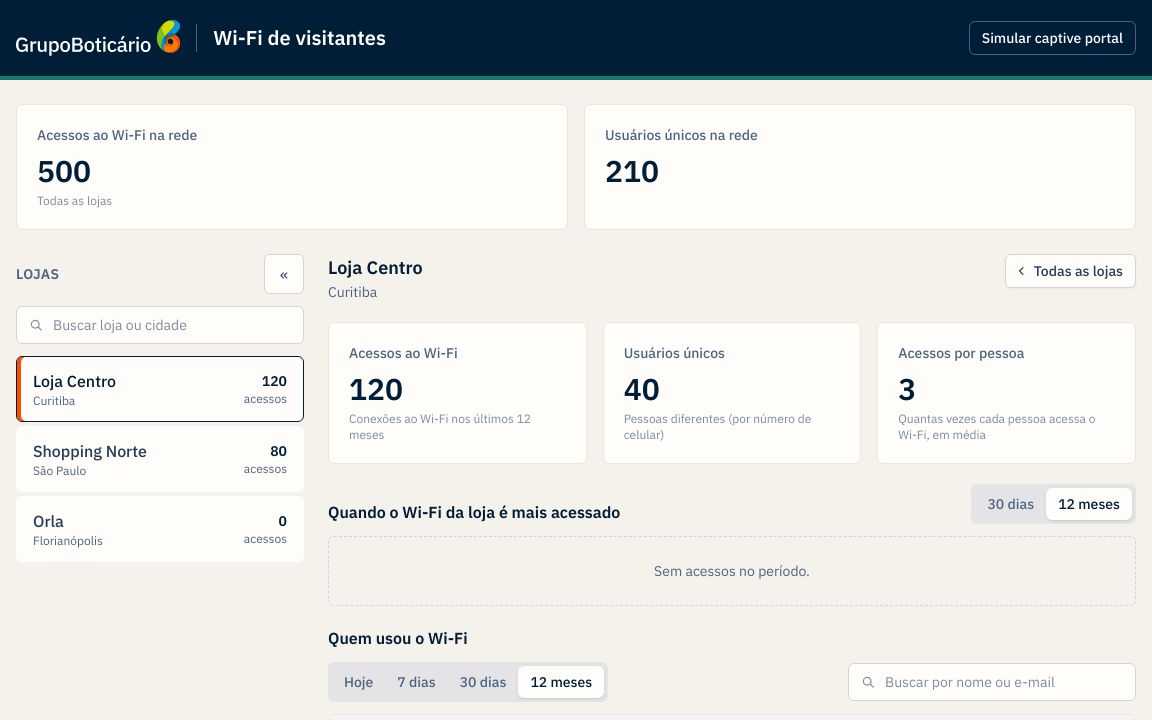
DashboardPage: loja selecionada › avisa quando a busca de visitante não acha ninguém
This screenshot has width=1152, height=720.
Type "zzz" into the search field named "Buscar usuário" at (992, 682), box [848, 663, 1136, 701]
(page scrolled)
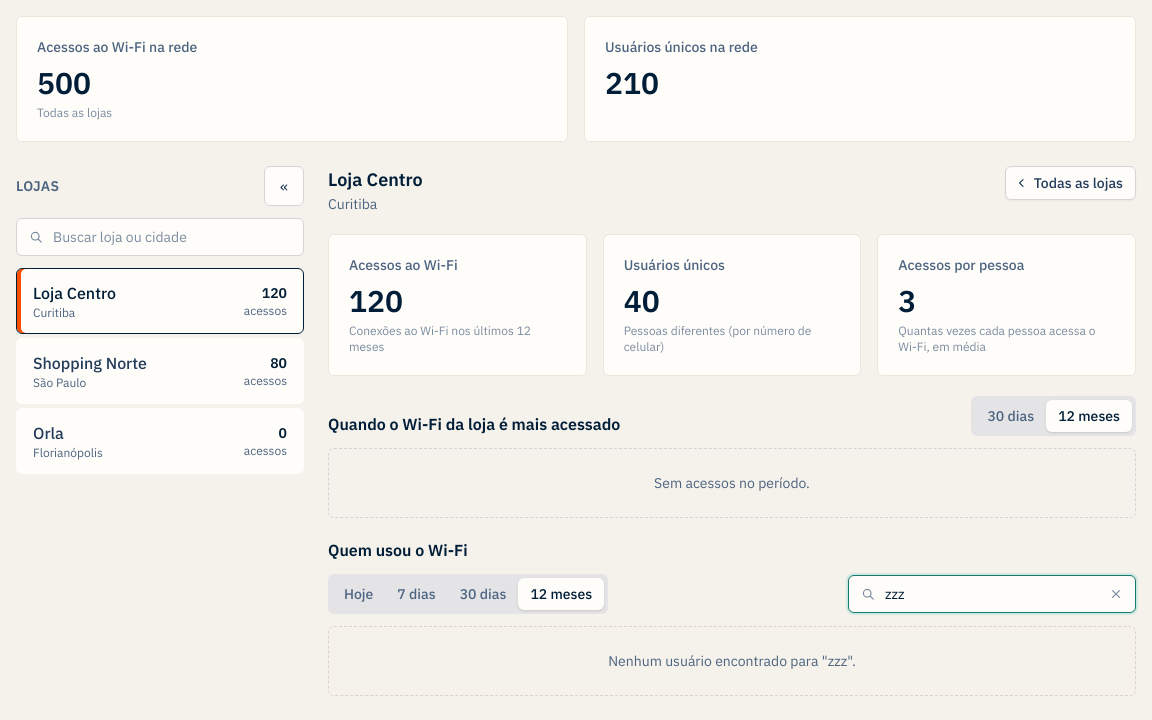
Expected: the text "Nenhum usuário encontrado para \"zzz\"." is shown, [328, 626, 1136, 696]
